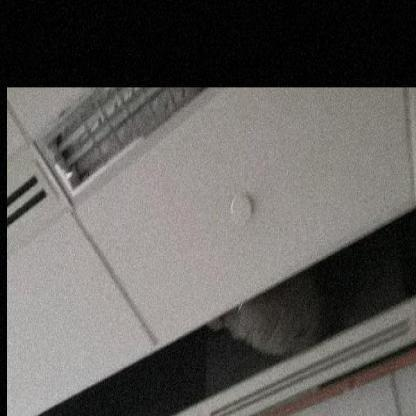light_off: (27, 92, 238, 202)
